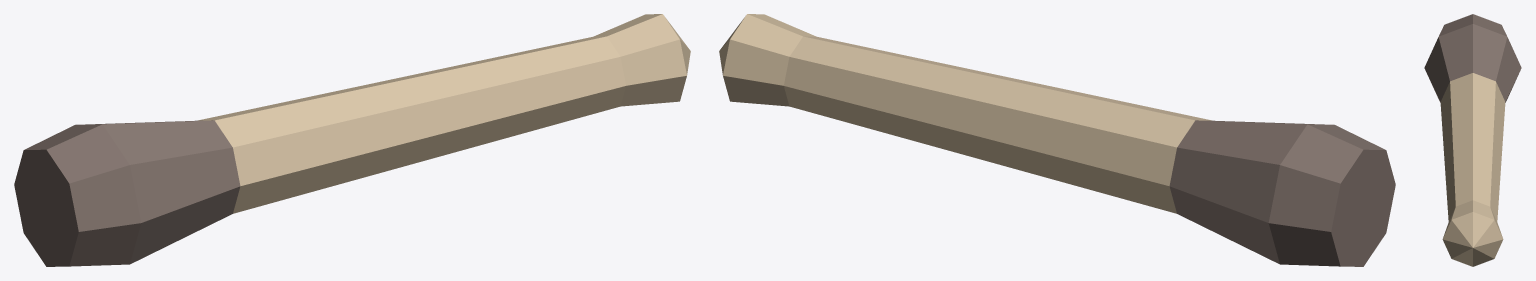
The model's file is prop-mixing-pestle-im1.fbx.
3 views of the same model, side by side, from view 1: azimuth 30°, elevation 25°; view 2: azimuth 150°, elevation 25°; view 3: azimuth 270°, elevation 25° (orthographic). The views are drawn at different scales.
Parts seen in each view (by area): view 1: prop-mixing-pestle-im1; view 2: prop-mixing-pestle-im1; view 3: prop-mixing-pestle-im1.
Part boxes in pixels (x1=…): prop-mixing-pestle-im1: x1=14, y1=14, x2=690, y2=266; prop-mixing-pestle-im1: x1=719, y1=14, x2=1395, y2=266; prop-mixing-pestle-im1: x1=1424, y1=14, x2=1521, y2=266.
Bounding box in the file's own units: 23 × 4.8 × 4.8.
